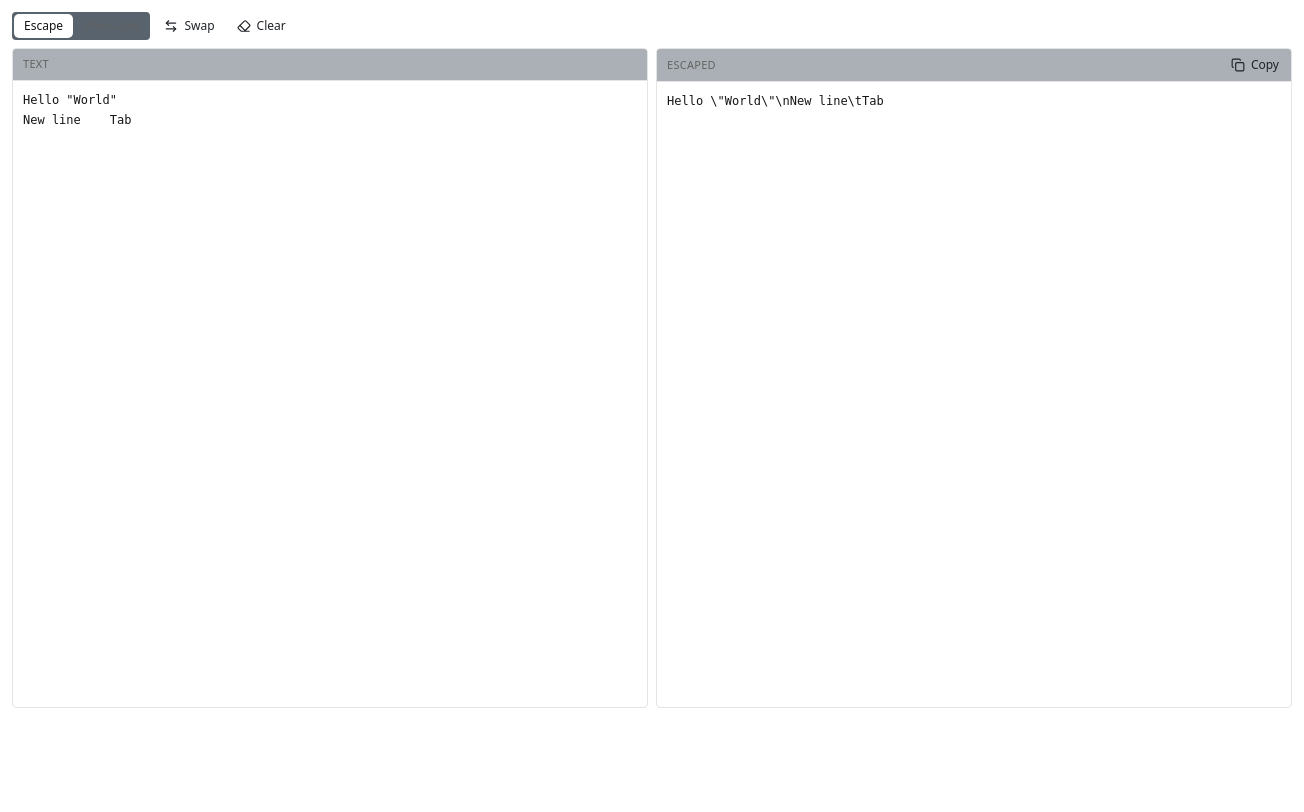
Test case: JsonEscape › swap round-trips
Click the button "Swap" at x=189, y=26, box 156,12 -> 222,40
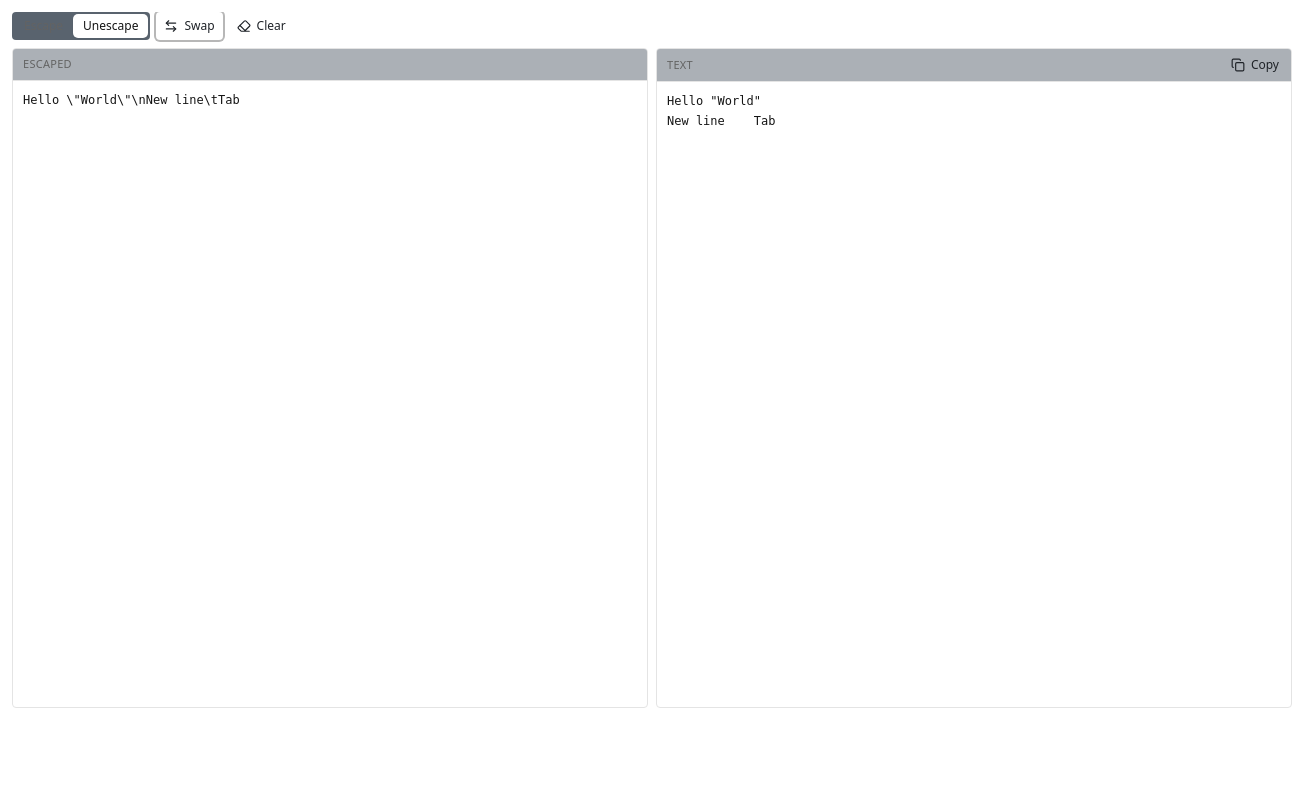
Now the text box named "Input" holds "Hello \\\"World\\\"\\nNew line\\tTab", box 13,81 -> 647,707
